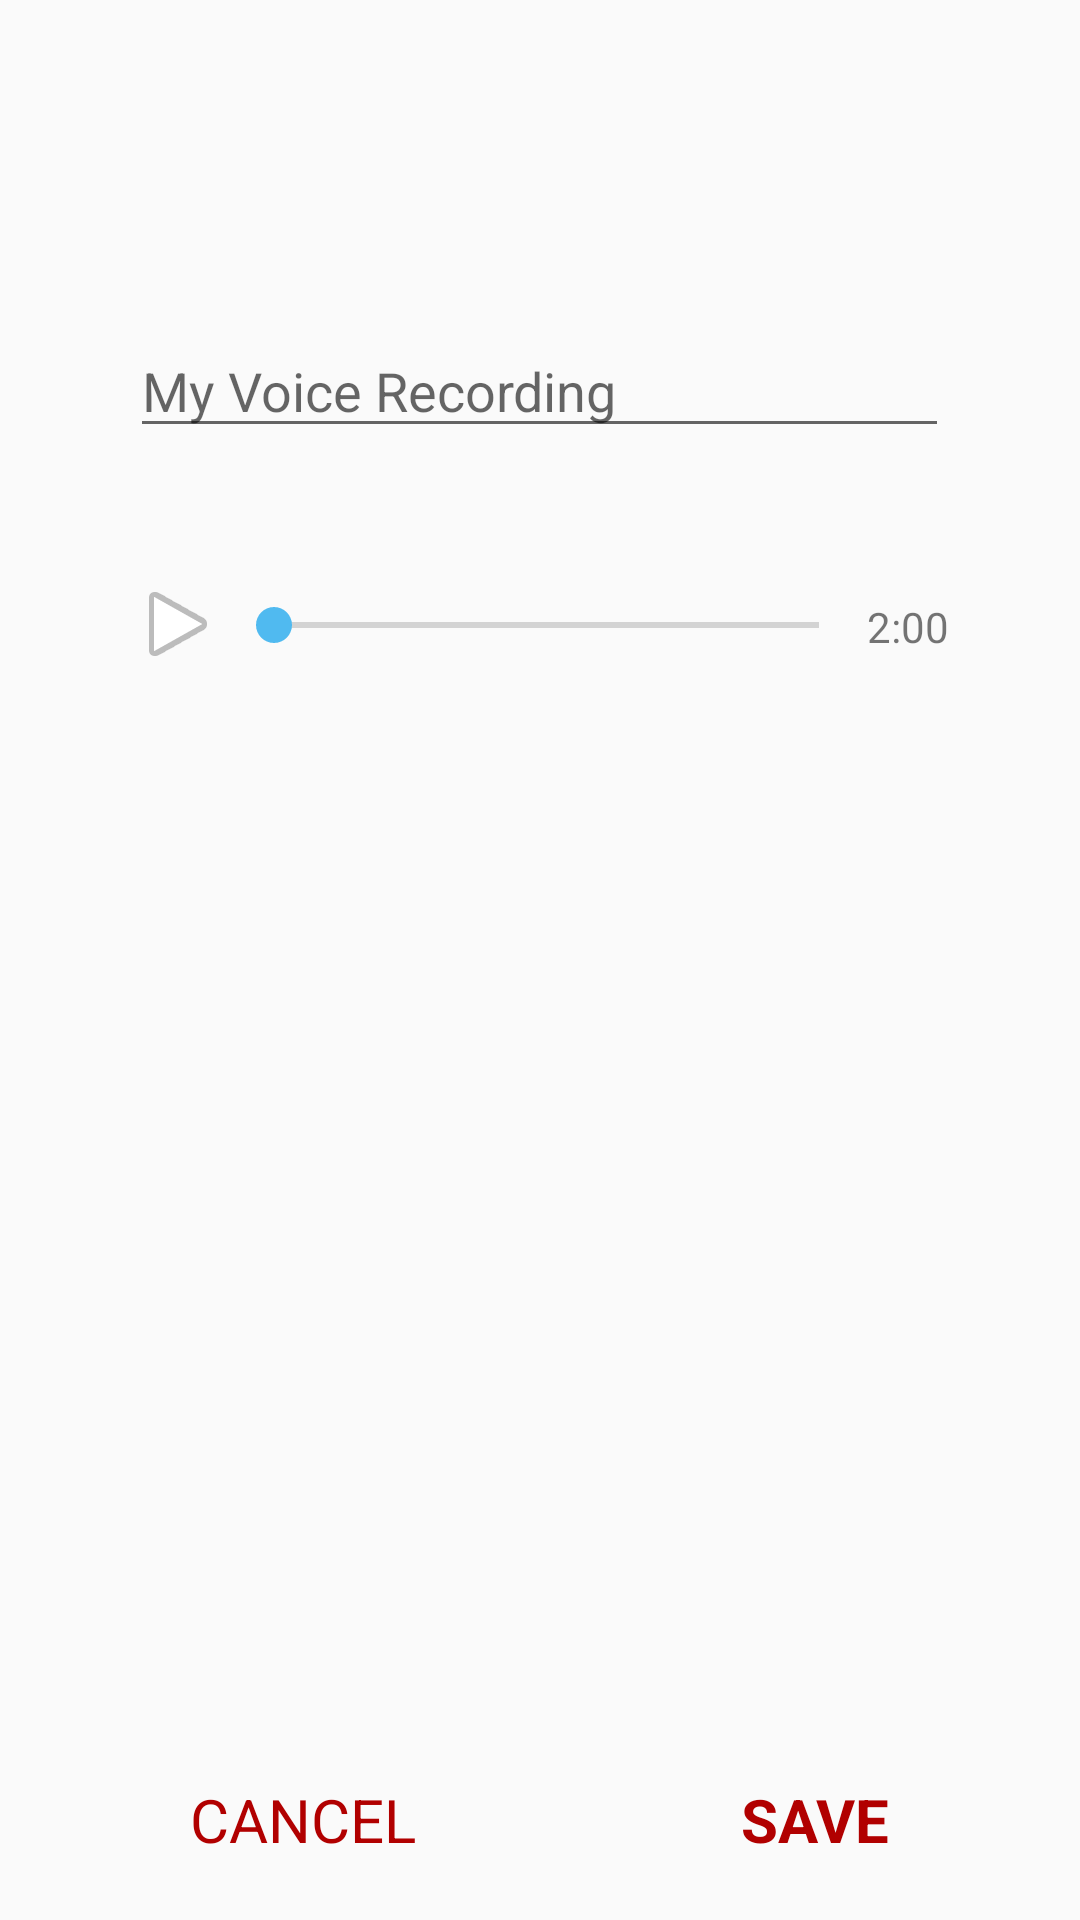

Screen size 1080×1920. Icon name, then its box in pixels as box=[x1, y1, x2, y2]:
play: box=[149, 592, 207, 656]
